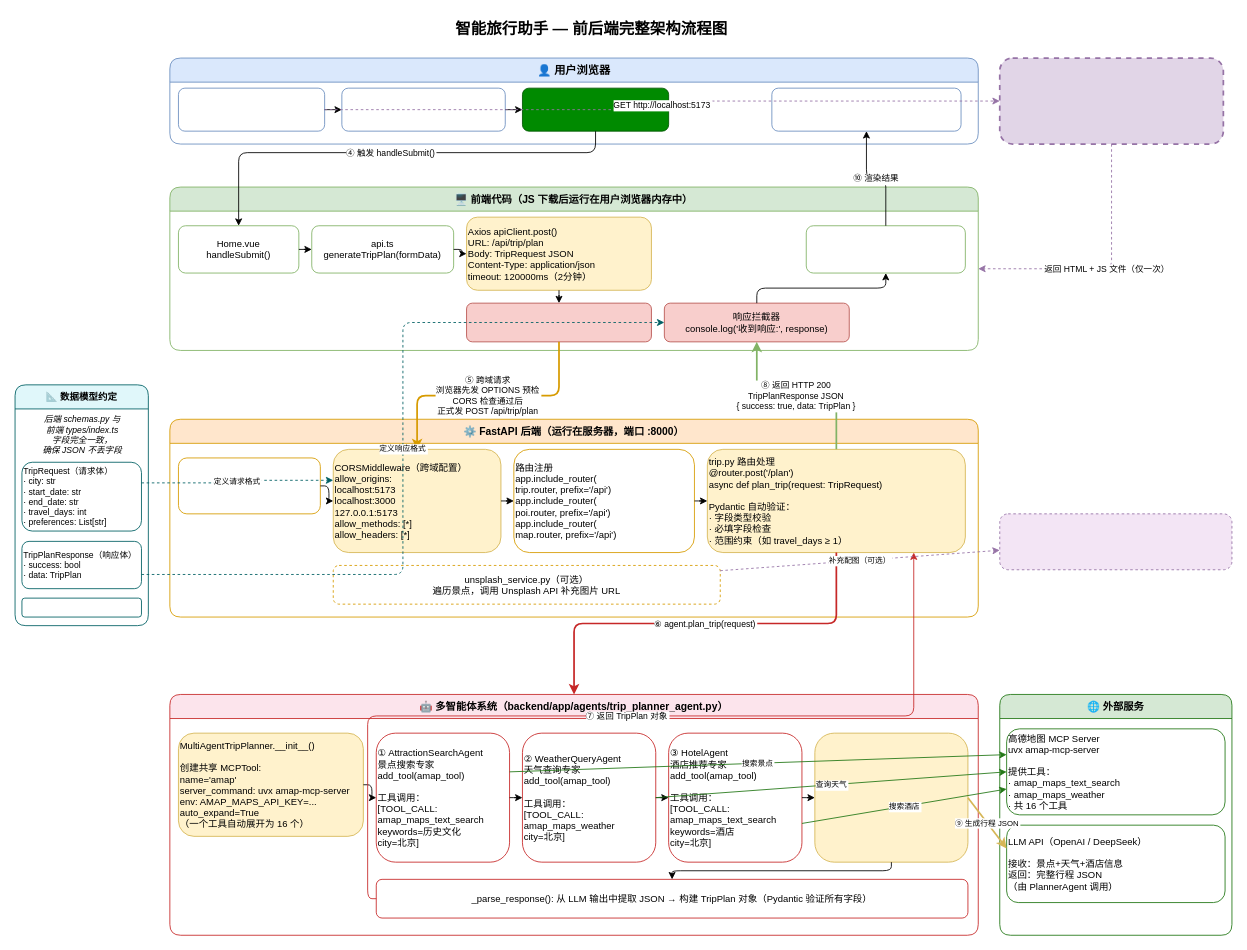
Image size: 1247x950. Some labels were removed from this diagram. The shapes that lost their labels are listed below. From the top down, each one's centre as x and y in pixels, then its label:
(x=251, y=109): ① 打开 http://localhost:5173
(x=423, y=109): ② 填写表单 城市 / 日期 / 偏好 / 预算
(x=595, y=109): ③ 点击「开始规划」
(x=866, y=109): ⑩ 查看结果页 Result.vue 地图 / 行程详情 / 预算明细
(x=1111, y=100): 📦 Vite 开发服务器 :5173 仅在「启动阶段」参与一次： 将 HTML + JS + CSS 文件发给浏览器 之后退出，不再参与任何请求
(x=885, y=249): Result.vue 渲染地图 / 逐日行程 / 预算
(x=558, y=322): 请求拦截器 console.log('发送请求:', config)
(x=249, y=485): main.py uvicorn app.api.main:app 启动 FastAPI 应用
(x=1115, y=541): Unsplash API（可选） 为景点补充图片 URL 由 unsplash_service.py 调用
(x=81, y=607): TripPlan（核心数据） · city, days[ ] · weather_info[ ] · budget
(x=891, y=797): ④ PlannerAgent 行程规划专家 （无工具，只调 LLM） 整合：景点信息 +天气信息 +酒店信息 → 输出完整行程 JSON
